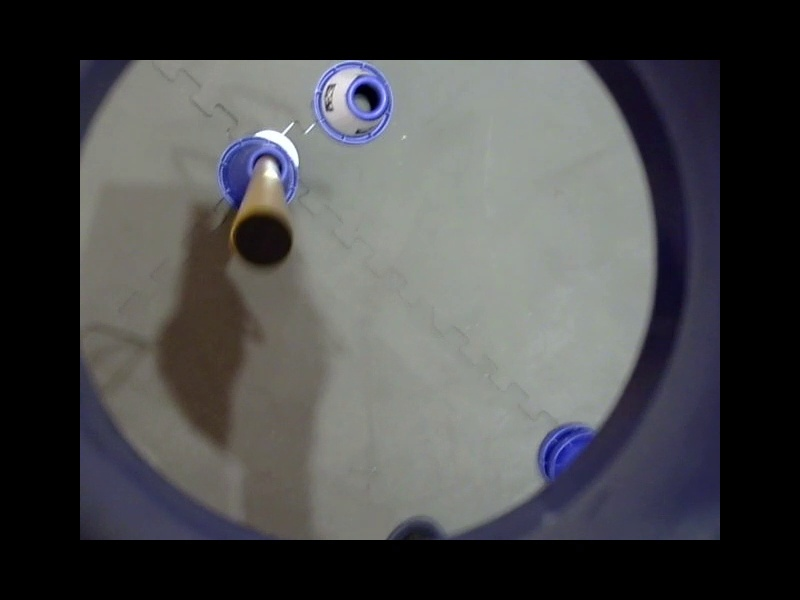tip: (174, 23, 273, 121)
